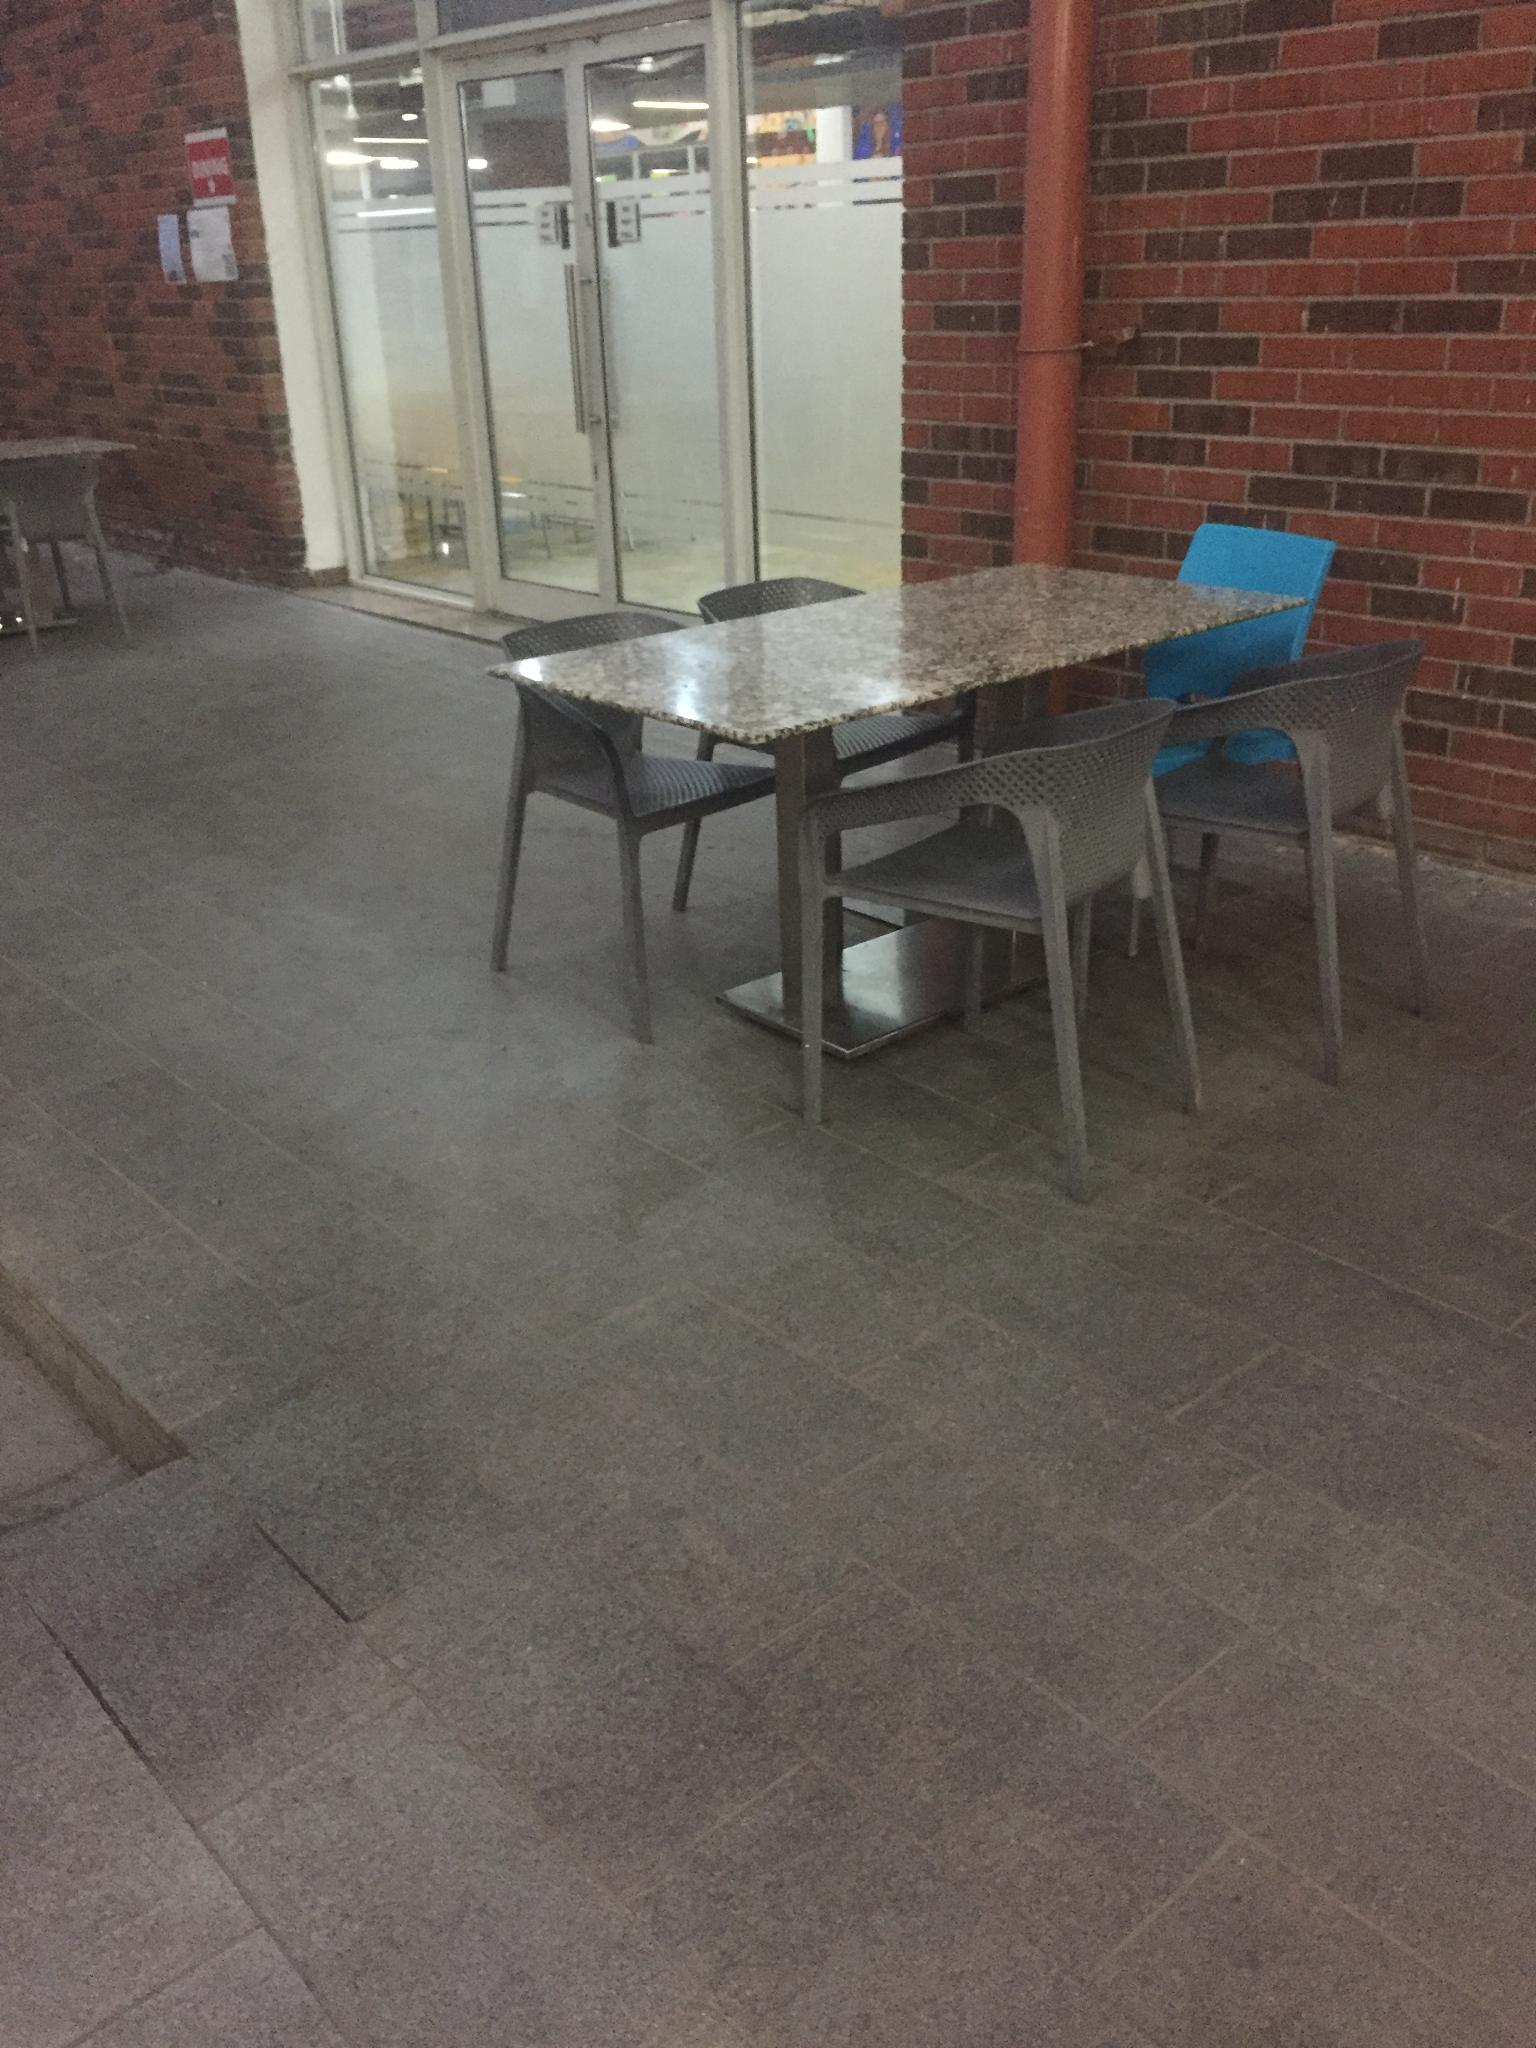chair: (799, 694, 1207, 1202), (1124, 637, 1434, 1085), (996, 510, 1362, 860), (488, 611, 778, 1043), (8, 464, 154, 644)
